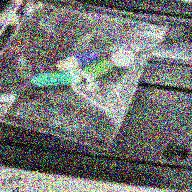러키펜정: (112, 50, 136, 69)
씨엠지세파클러캡슐: (56, 50, 100, 72)
에르도캡슐: (31, 72, 82, 88)
휴티렌정: (81, 58, 114, 80)
